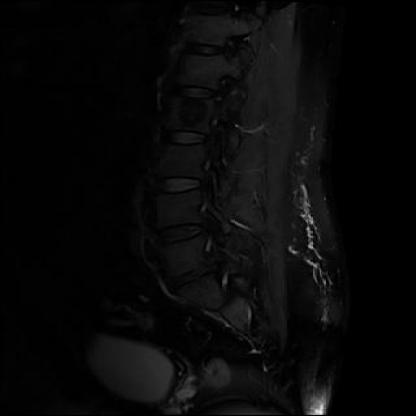Degenerative Disc Diseaserotation: (149, 217, 216, 247), (160, 262, 226, 287), (149, 174, 204, 198)
Disc Bulgerotation: (149, 216, 217, 247), (159, 261, 223, 287), (148, 174, 206, 198)
